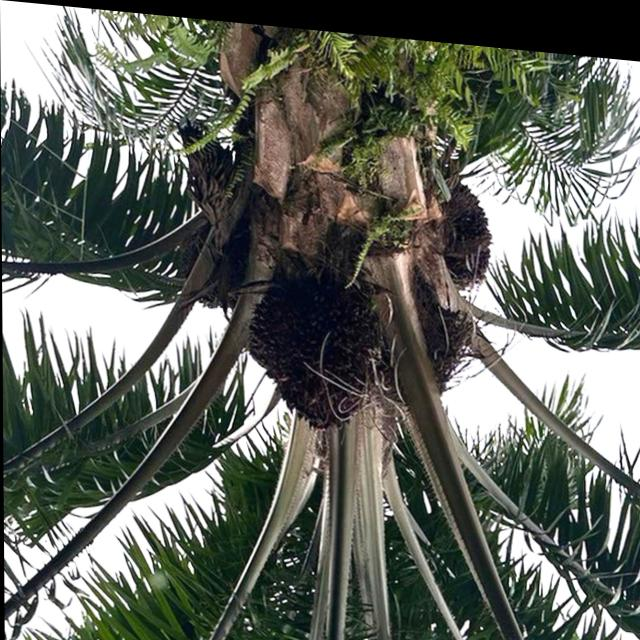ripe: (225, 247, 388, 440)
